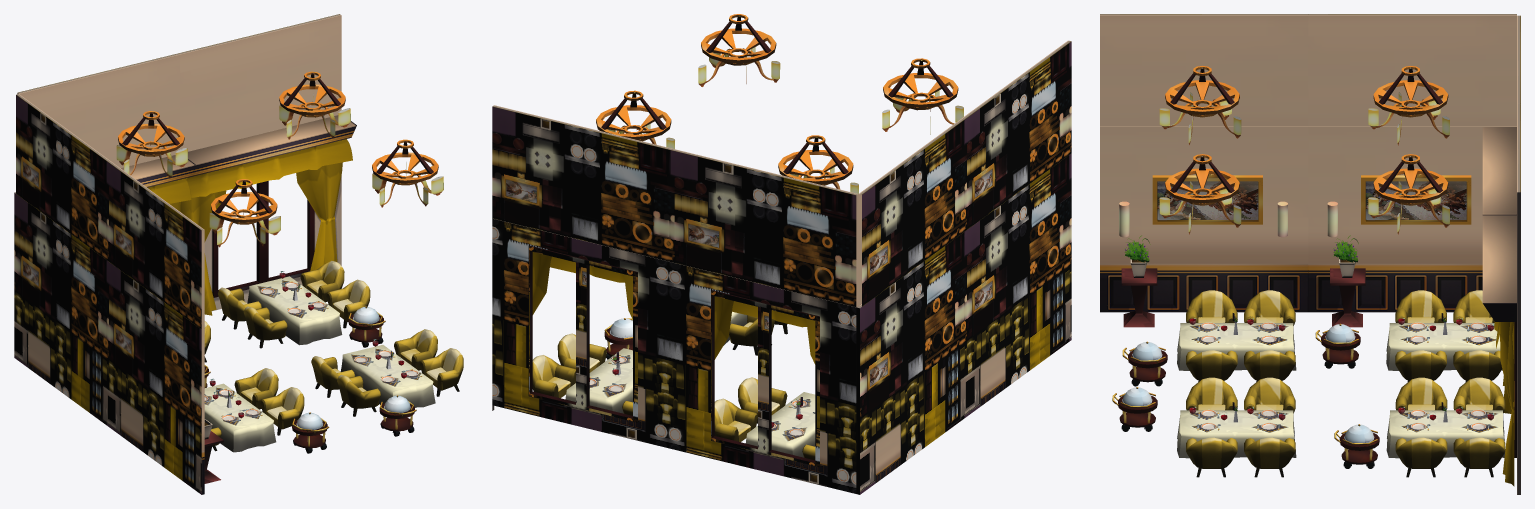
File: restaurant_test.fbx
3 views of the same model, side by side, from view 1: azimuth 30°, elevation 25°; view 2: azimuth 150°, elevation 25°; view 3: azimuth 270°, elevation 25° (orthographic). The views are drawn at different scales.
Parts seen in each view (by area): view 1: wall, table_1, table_3, table_2, lamp_2, lamp_4, lamp_3, Lamp_Plant2, Lamp_Plant3, Lamp_Plant4, Lamp_Plant1, plant; view 2: wall, table_1, lamp_3, lamp_4, lamp_2, table_3, Lamp_Plant3, Lamp_Plant2; view 3: wall, table_1, table_3, table_2, lamp_4, lamp_3, lamp_2, plant, Lamp_Plant2, Lamp_Plant1, Lamp_Plant3, Lamp_Plant4.
Part boxes in pixels (x1,y1,x2,y2): wall: (14, 14, 356, 494); table_1: (218, 260, 385, 348); table_3: (311, 329, 463, 436); table_2: (204, 368, 329, 453); lamp_2: (279, 71, 345, 117); lamp_4: (372, 139, 438, 185); lamp_3: (211, 179, 277, 224); Lamp_Plant2: (209, 212, 280, 418); Lamp_Plant3: (372, 162, 443, 378); Lamp_Plant4: (279, 94, 350, 310); Lamp_Plant1: (116, 144, 188, 177); plant: (204, 419, 223, 483); wall: (492, 40, 1071, 494); table_1: (532, 318, 632, 415); lamp_3: (883, 58, 958, 110); lamp_4: (701, 14, 776, 65); lamp_2: (596, 90, 671, 141); table_3: (723, 311, 787, 355); Lamp_Plant3: (698, 47, 780, 86); Lamp_Plant2: (882, 90, 963, 134); wall: (1100, 14, 1520, 494); table_1: (1334, 377, 1505, 477); table_3: (1112, 377, 1296, 477); table_2: (1122, 290, 1296, 386); lamp_4: (1165, 154, 1239, 205); lamp_3: (1165, 66, 1239, 117); lamp_2: (1373, 154, 1448, 205); plant: (1121, 259, 1157, 327); Lamp_Plant2: (1124, 92, 1285, 331); Lamp_Plant1: (1333, 92, 1494, 331); Lamp_Plant3: (1159, 181, 1285, 420); Lamp_Plant4: (1368, 181, 1494, 420).
Size of what is drawn, in the model's own units: 45.41 by 35.67 by 44.95.
